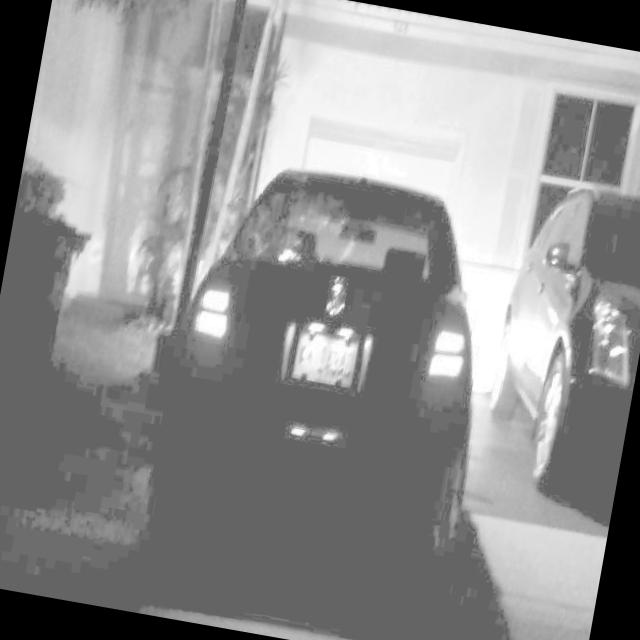Car: (116, 130, 533, 640), (465, 113, 640, 499)
Tree: (141, 0, 284, 332)
